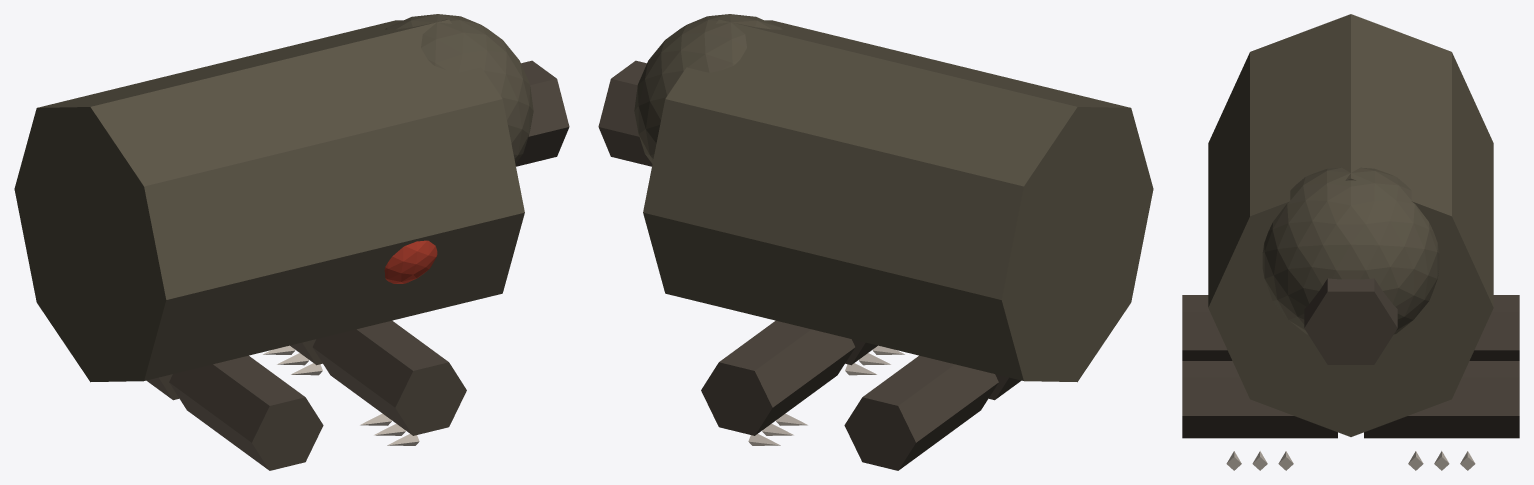
The model's file is zombie_bear.glb.
3 renders of one model, left to right at view 1: azimuth 30°, elevation 25°; view 2: azimuth 150°, elevation 25°; view 3: azimuth 270°, elevation 25°, orthographic. The views are drawn at different scales.
Parts seen in each view (by area): view 1: geometry_0; view 2: geometry_0; view 3: geometry_0.
Part boxes in pixels (<box>): geometry_0: <box>14,14,569,470</box>; geometry_0: <box>598,14,1153,470</box>; geometry_0: <box>1182,14,1519,470</box>.
Bounding box in the file's own units: 1.9 × 1.43 × 1.3.
